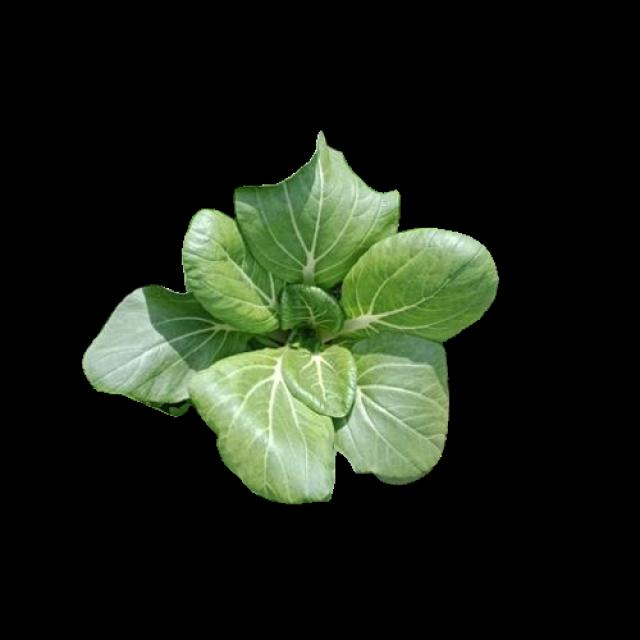healthy: (79, 131, 488, 494)
mature: (82, 133, 490, 497)
